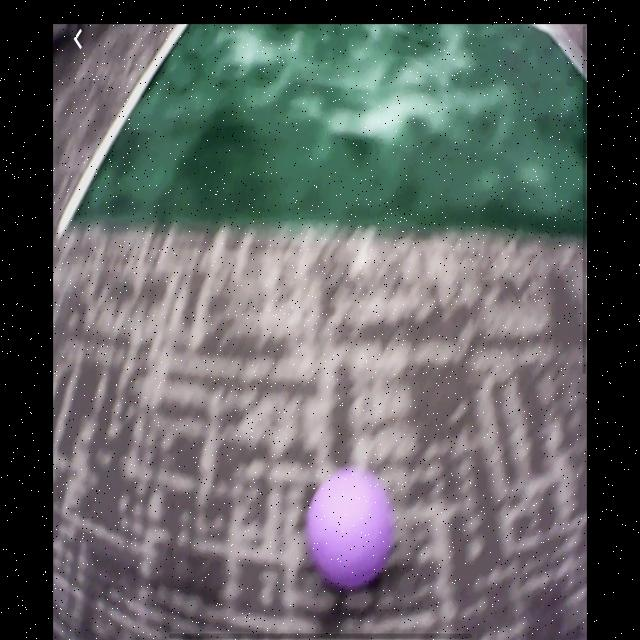ball: (310, 474, 394, 582)
